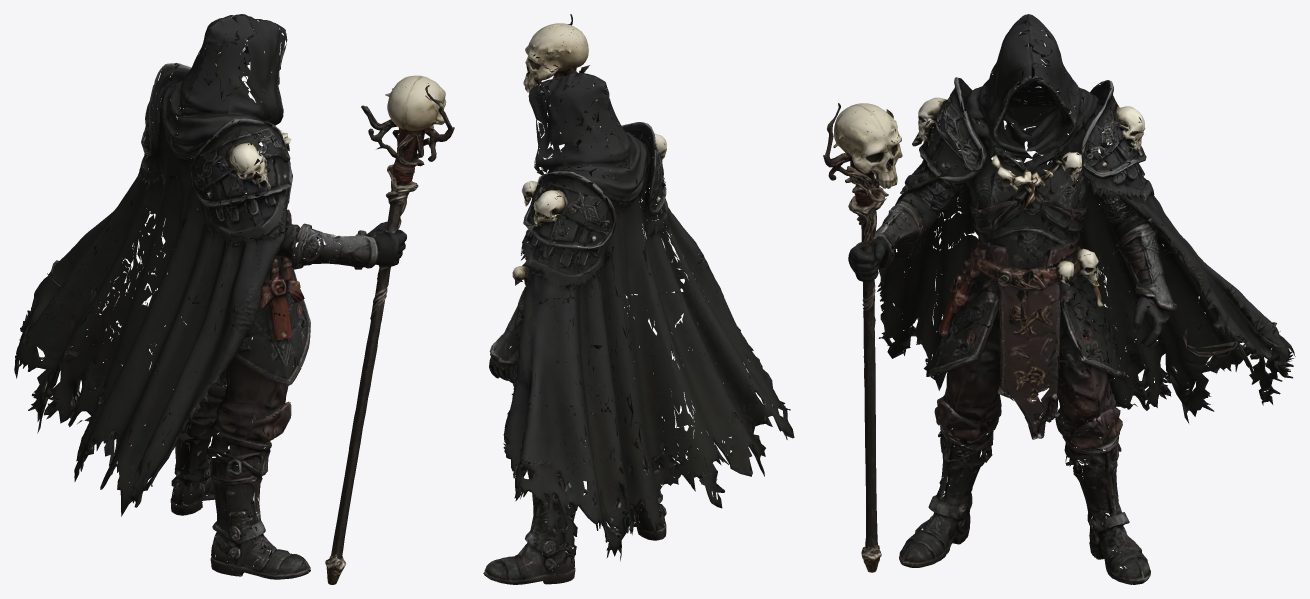
File: necromancer.glb
3 renders of one model, left to right at view 1: azimuth 30°, elevation 25°; view 2: azimuth 150°, elevation 25°; view 3: azimuth 270°, elevation 25°, orthographic. The views are drawn at different scales.
Visible parts, largest first — view 1: tripo_node_5e6cf8ad; view 2: tripo_node_5e6cf8ad; view 3: tripo_node_5e6cf8ad.
Boxes of the visible parts, x1,y1,x2,y2 form: tripo_node_5e6cf8ad: (14,14,454,584); tripo_node_5e6cf8ad: (483,14,794,584); tripo_node_5e6cf8ad: (823,14,1295,584).
Size of the model in its own units: 0.5929 by 0.9799 by 0.7791.
1 material, 1 textured.
